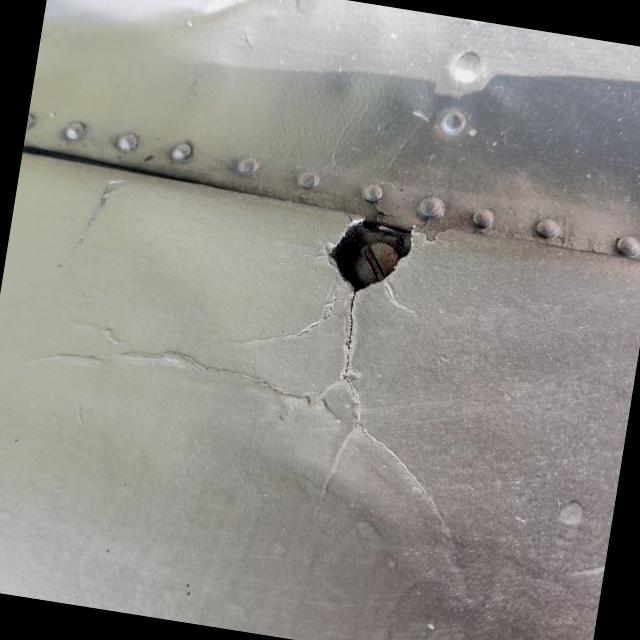crack: (206, 187, 526, 560)
